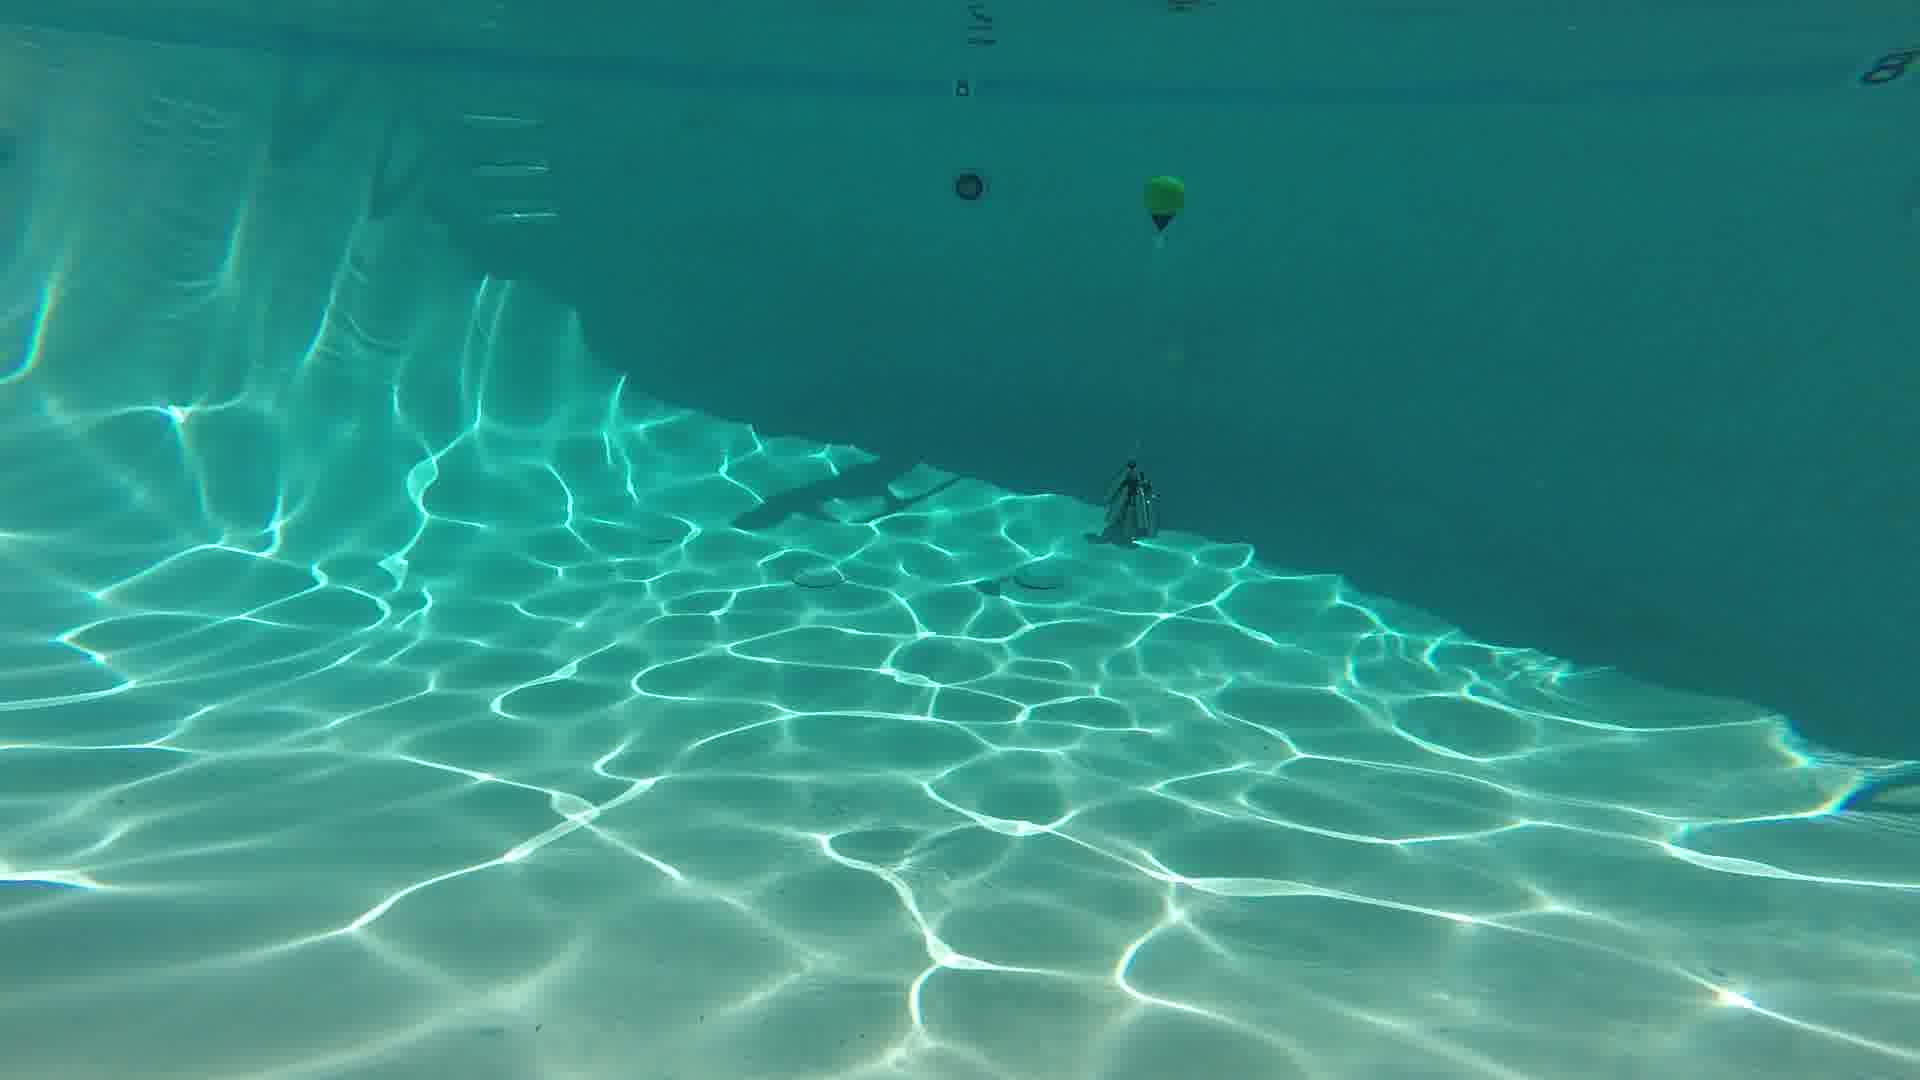yellow_buoy: (1149, 175, 1182, 233)
